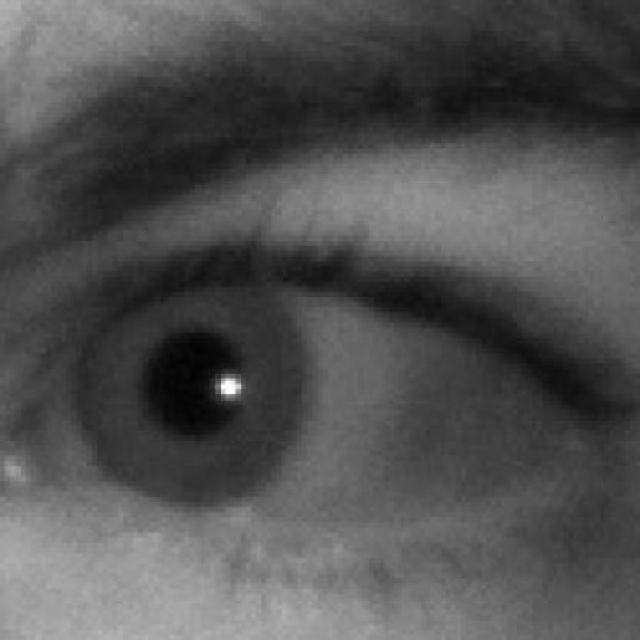awake: (0, 215, 589, 594)
